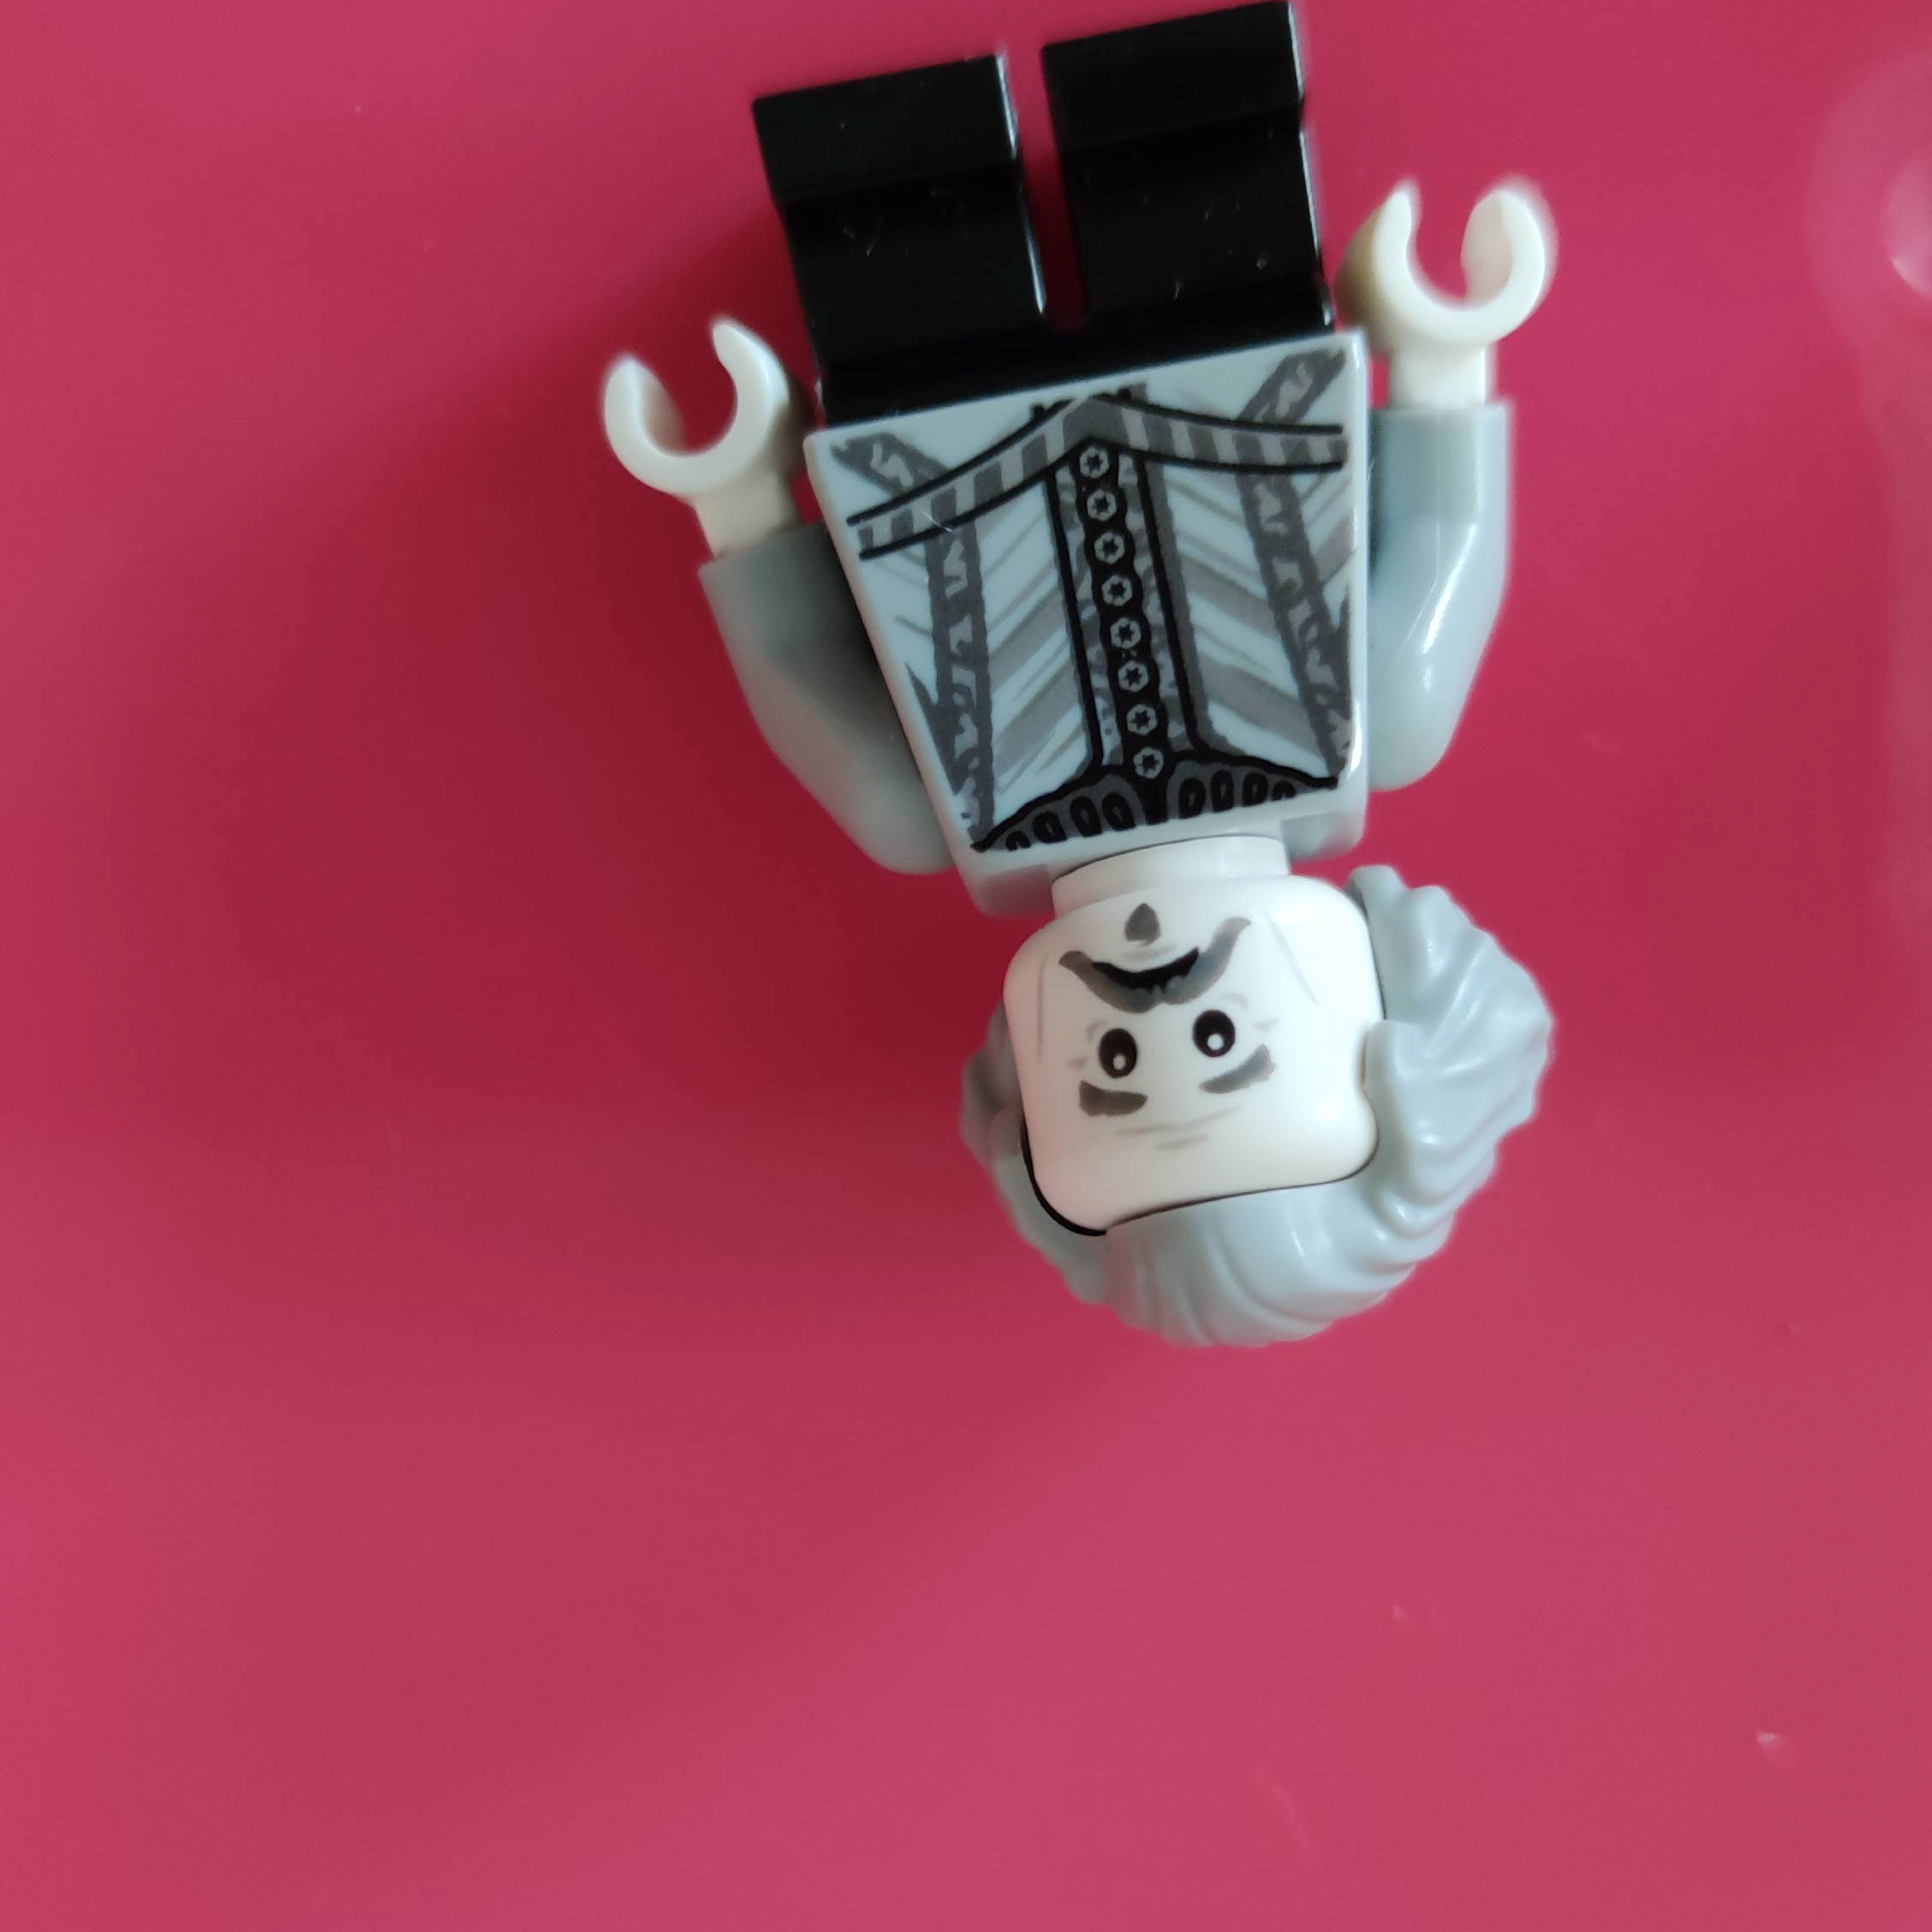lego: (609, 0, 1553, 1359)
